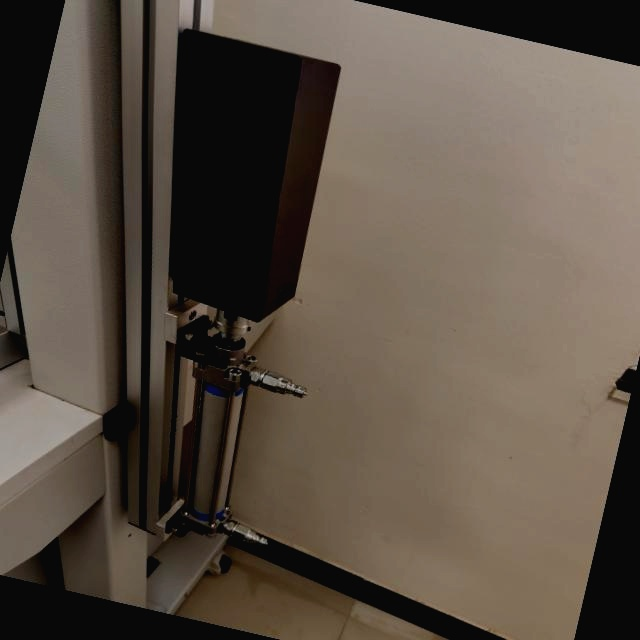load: (54, 18, 389, 562)
